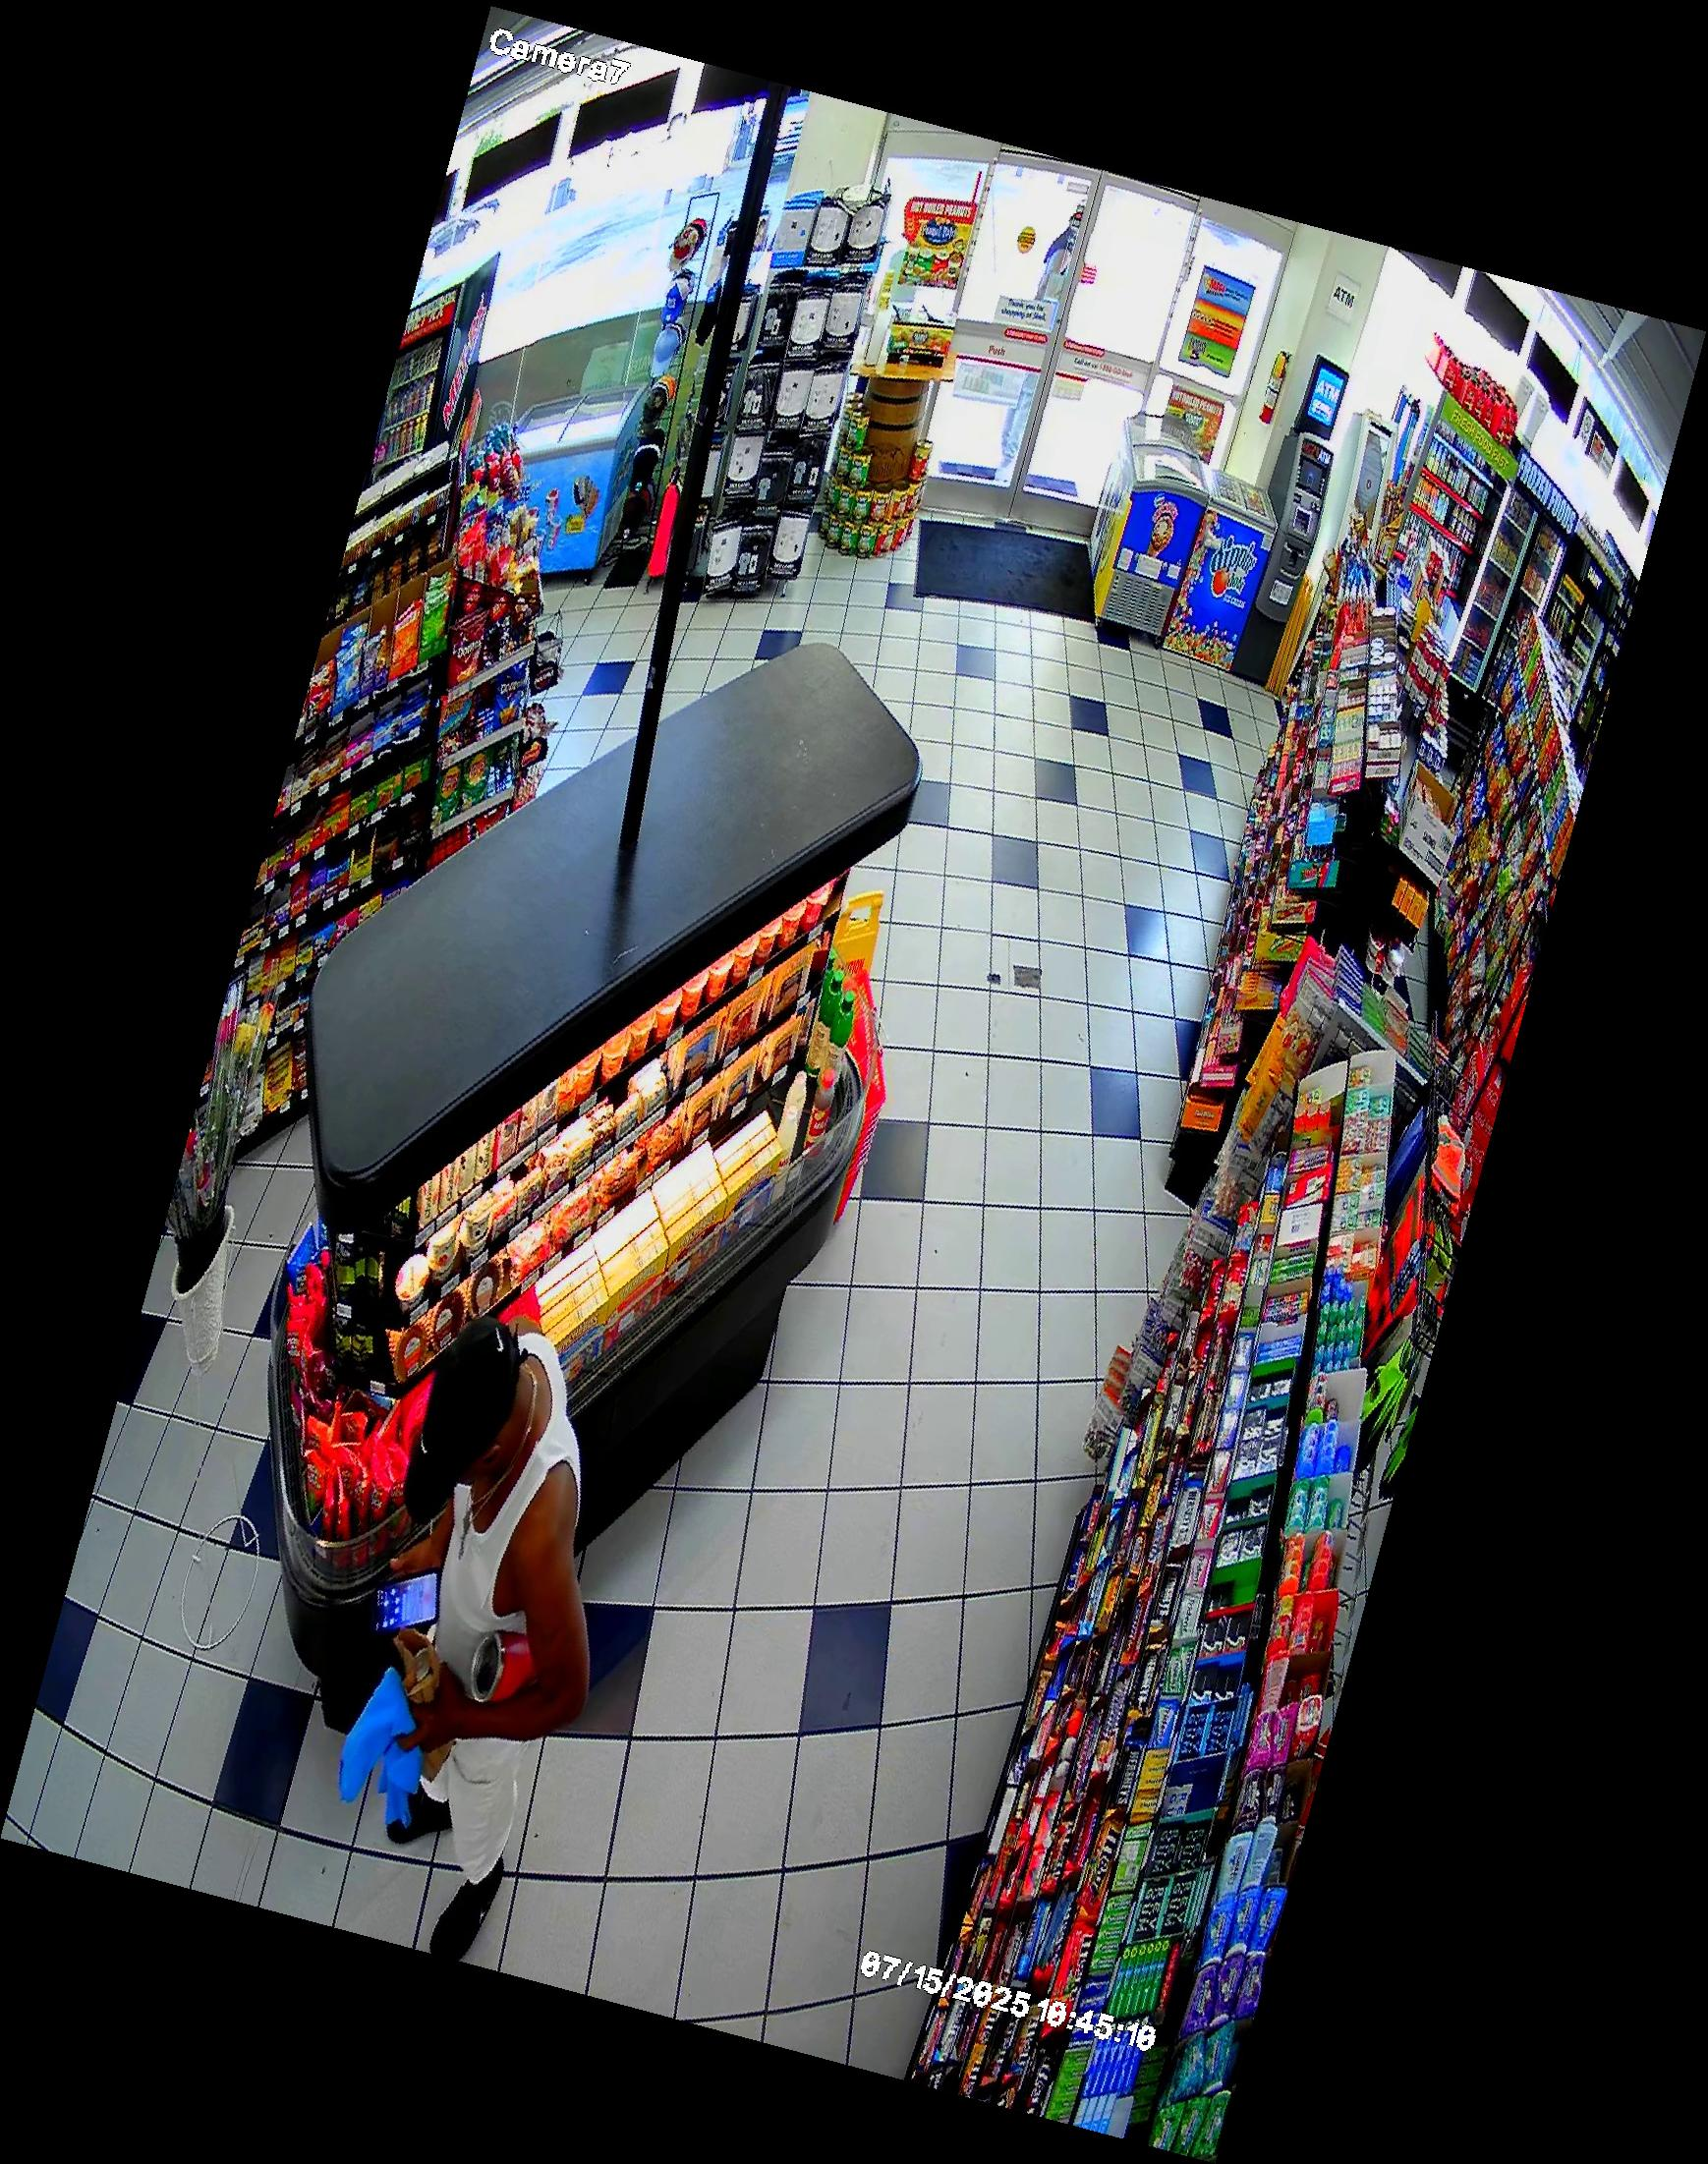phone: (357, 1558, 446, 1649)
